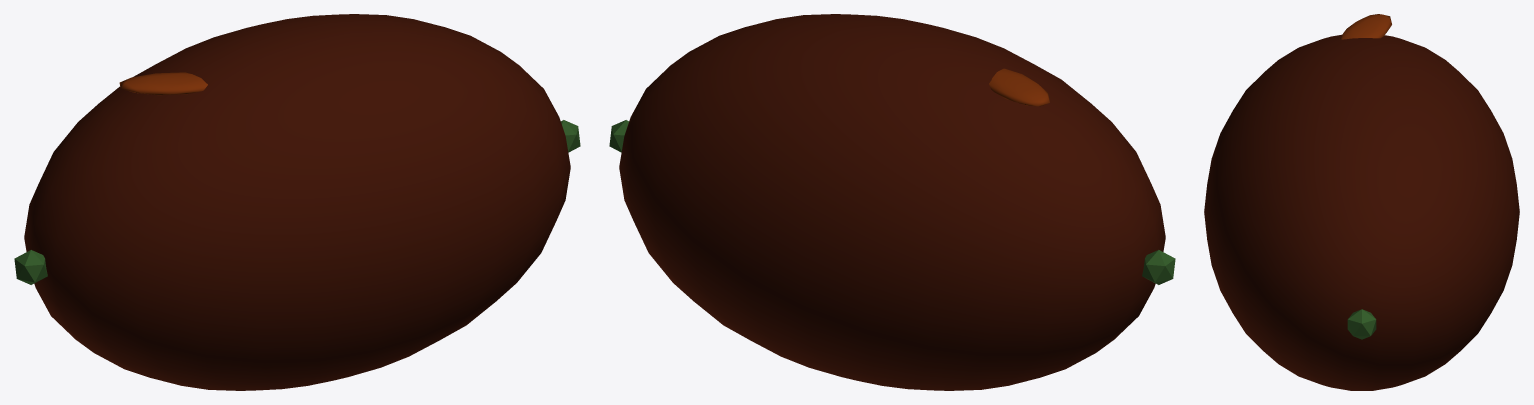
The model's file is lemon.fbx.
3 renders of one model, left to right at view 1: azimuth 30°, elevation 25°; view 2: azimuth 150°, elevation 25°; view 3: azimuth 270°, elevation 25°, orthographic. The views are drawn at different scales.
Visible parts, largest first — view 1: lemon; view 2: lemon; view 3: lemon.
Boxes of the visible parts, left/top/right/bottom form: lemon: left=14, top=14, right=580, bottom=390; lemon: left=609, top=14, right=1175, bottom=390; lemon: left=1204, top=14, right=1519, bottom=390.
Bounding box in the file's own units: 100 × 56.31 × 56.31.
